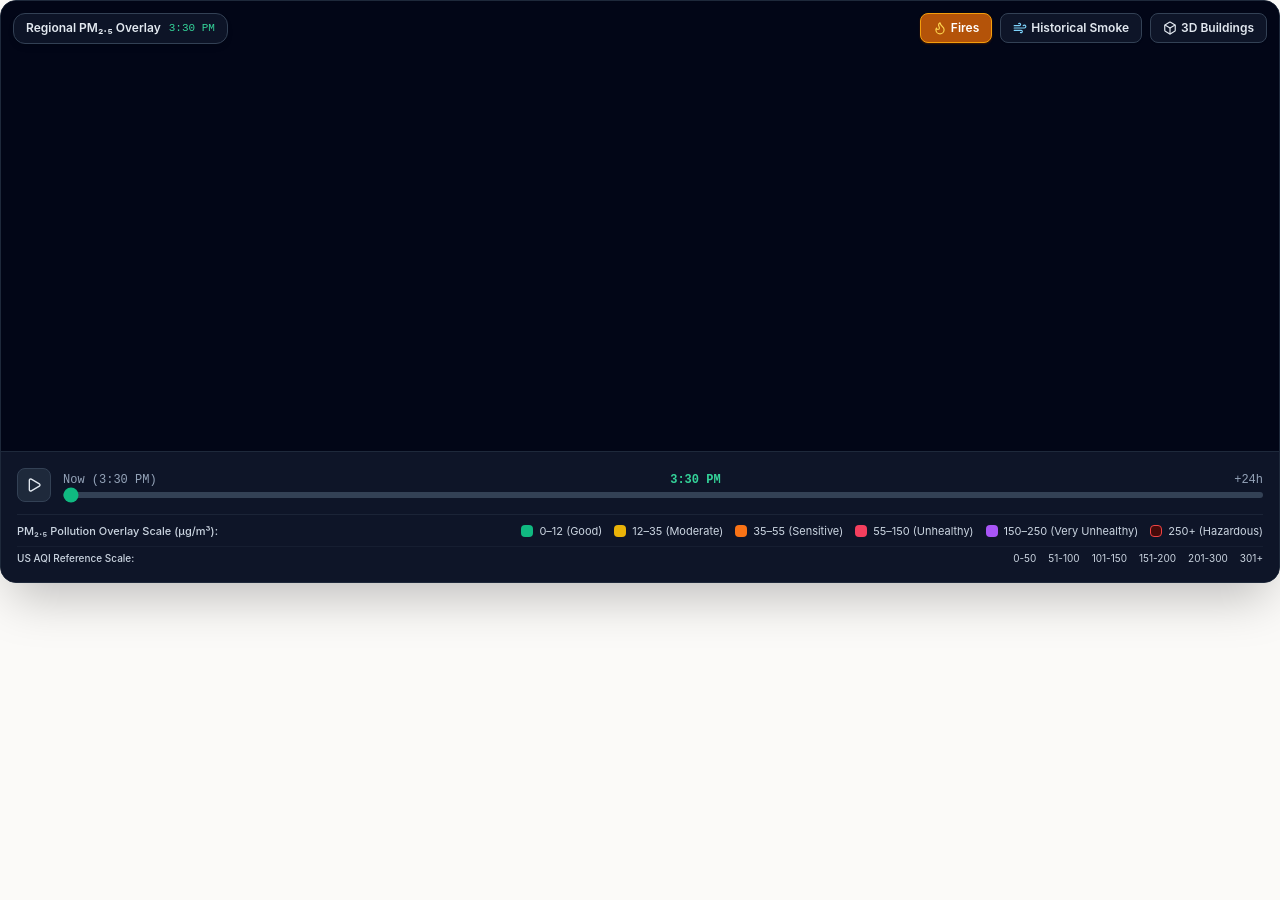
AirQualityMap fallback handling and overlay toggles › toggles 3D perspective, fires overlay, and historical smoke drawer cleanly
Click the button with aria-label "Switch to 3D perspective with extruded buildings": (1209, 28) [1150, 13, 1267, 43]
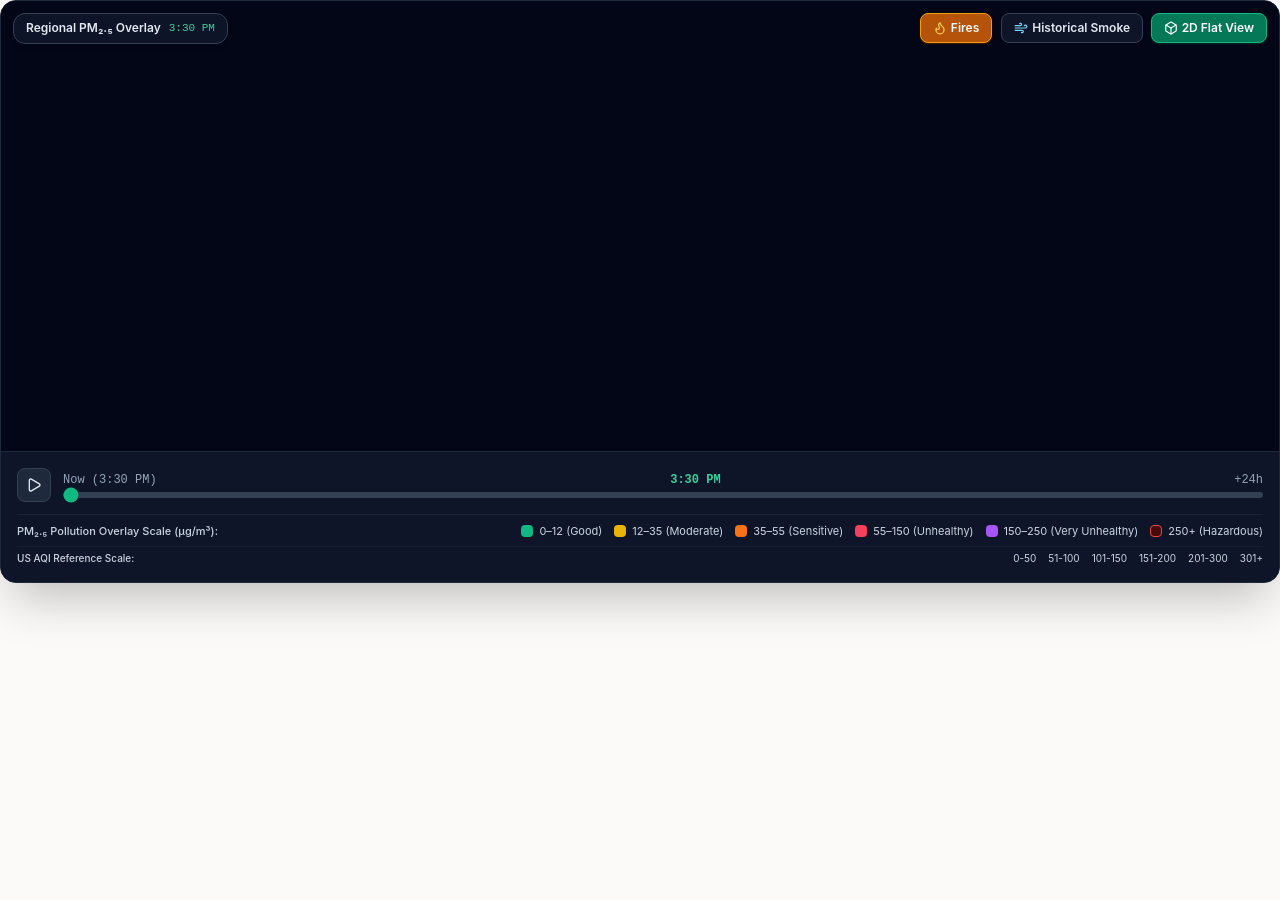
Now the text "2D Flat View" is shown, box [1182, 20, 1254, 36]
Toggle Historical Smoke drawer on and off
Click the button with aria-label "Toggle historical smoke case": (1072, 28) [1001, 13, 1143, 43]
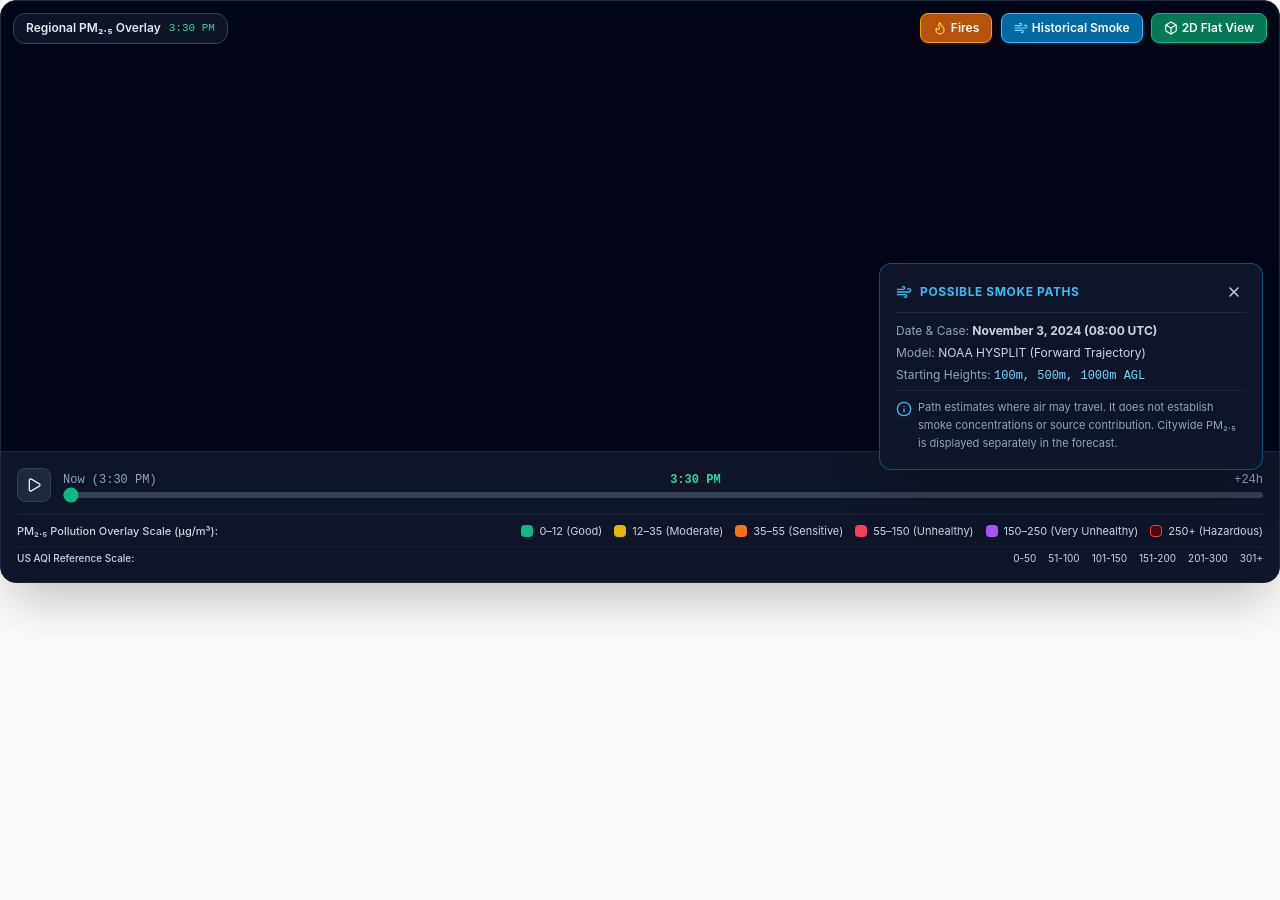
Now the text "Possible smoke paths" is shown, box [920, 284, 1080, 300]
Click the button named "Close historical smoke details": (1234, 292) [1222, 280, 1246, 304]
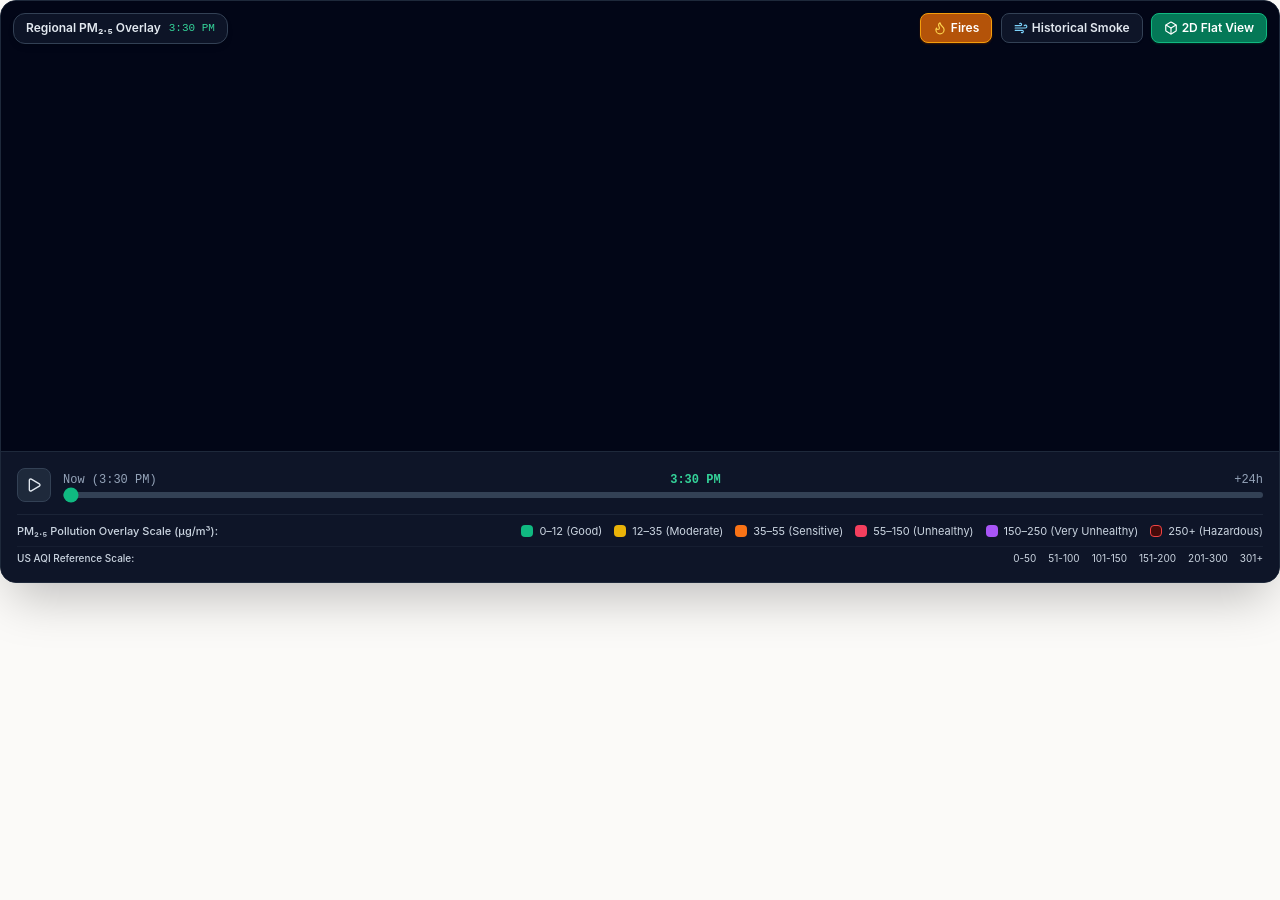
Now the text "Possible smoke paths" is gone
